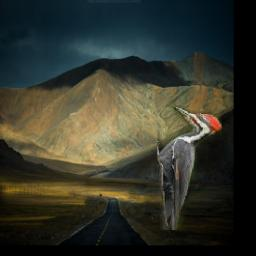Woodpecker: (158, 106, 222, 231)
